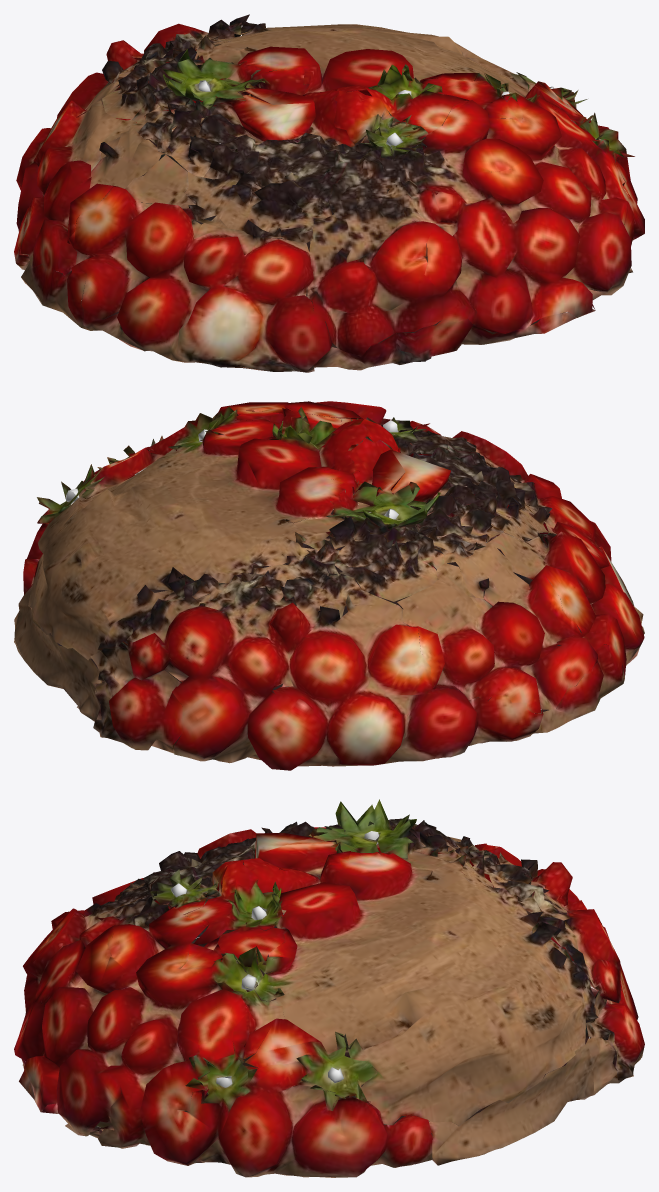
Rendered from cake.glb.
3 views of the same model, one above another, from view 1: azimuth 30°, elevation 25°; view 2: azimuth 150°, elevation 25°; view 3: azimuth 270°, elevation 25° (orthographic). The views are drawn at different scales.
Parts seen in each view (by area): view 1: strawberry_chocolate_cake; view 2: strawberry_chocolate_cake; view 3: strawberry_chocolate_cake.
Part boxes in pixels (x1,y1,x2,y2): strawberry_chocolate_cake: (14, 14, 644, 372); strawberry_chocolate_cake: (14, 401, 644, 770); strawberry_chocolate_cake: (14, 799, 644, 1177).
Bounding box in the file's own units: 0.2434 × 0.0786 × 0.2403.
1 material, 1 textured.
